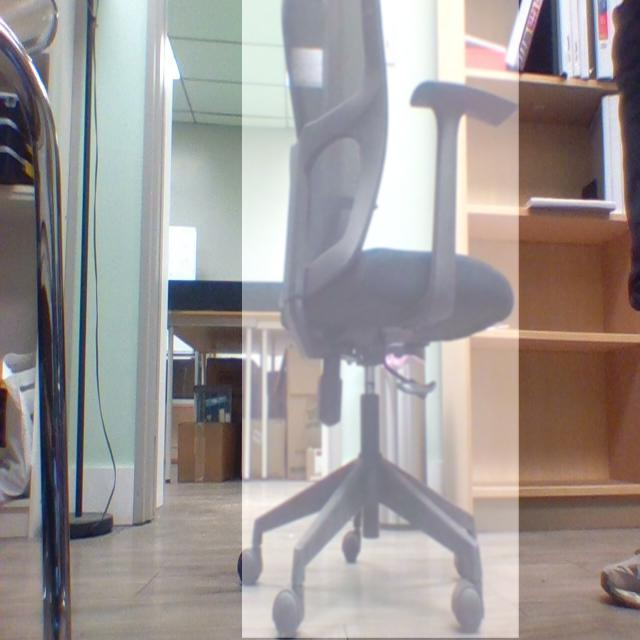chair: (242, 1, 520, 640)
